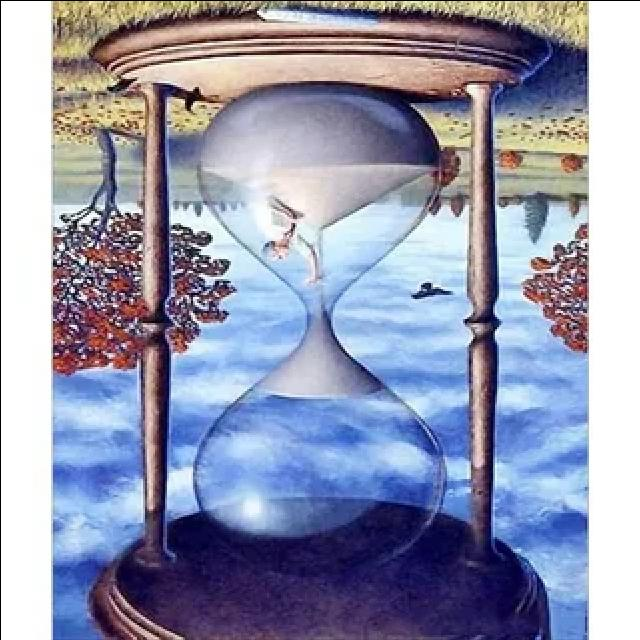clock: (73, 0, 564, 640)
